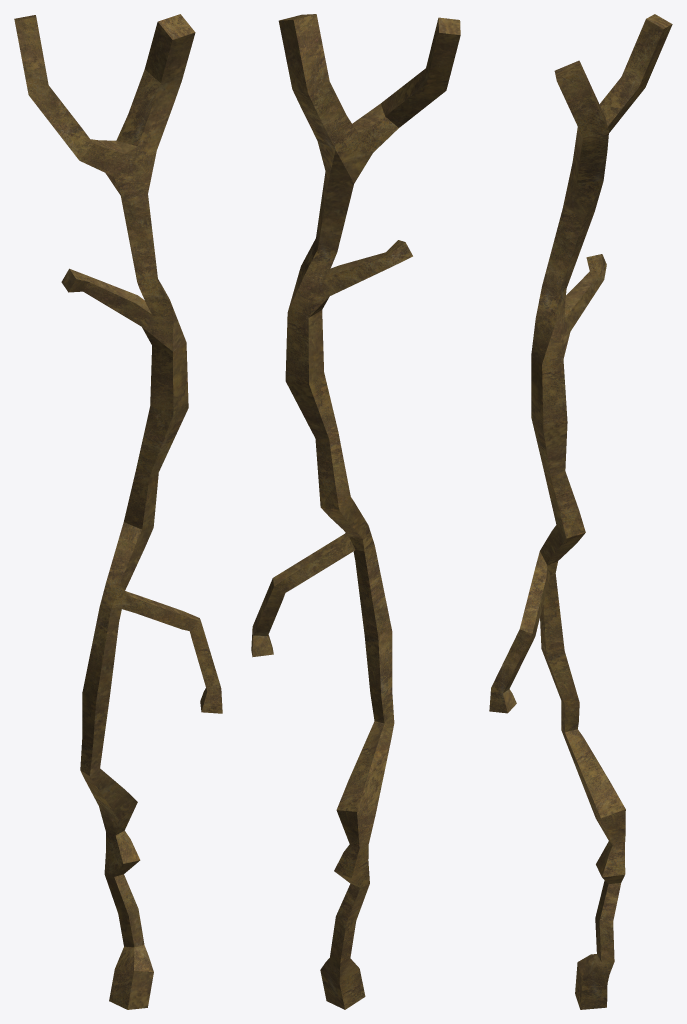
Rendered from mg_12__pillar_3.fbx.
3 views of the same model, side by side, from view 1: azimuth 30°, elevation 25°; view 2: azimuth 210°, elevation 25°; view 3: azimuth 270°, elevation 25° (orthographic). The views are drawn at different scales.
Parts seen in each view (by area): view 1: mg_12__pillar_3; view 2: mg_12__pillar_3; view 3: mg_12__pillar_3.
Part boxes in pixels (<box>): mg_12__pillar_3: <box>14,14,222,1009</box>; mg_12__pillar_3: <box>251,14,460,1009</box>; mg_12__pillar_3: <box>489,14,672,1009</box>.
Size of the model in its own units: 35.28 by 254 by 44.19.
